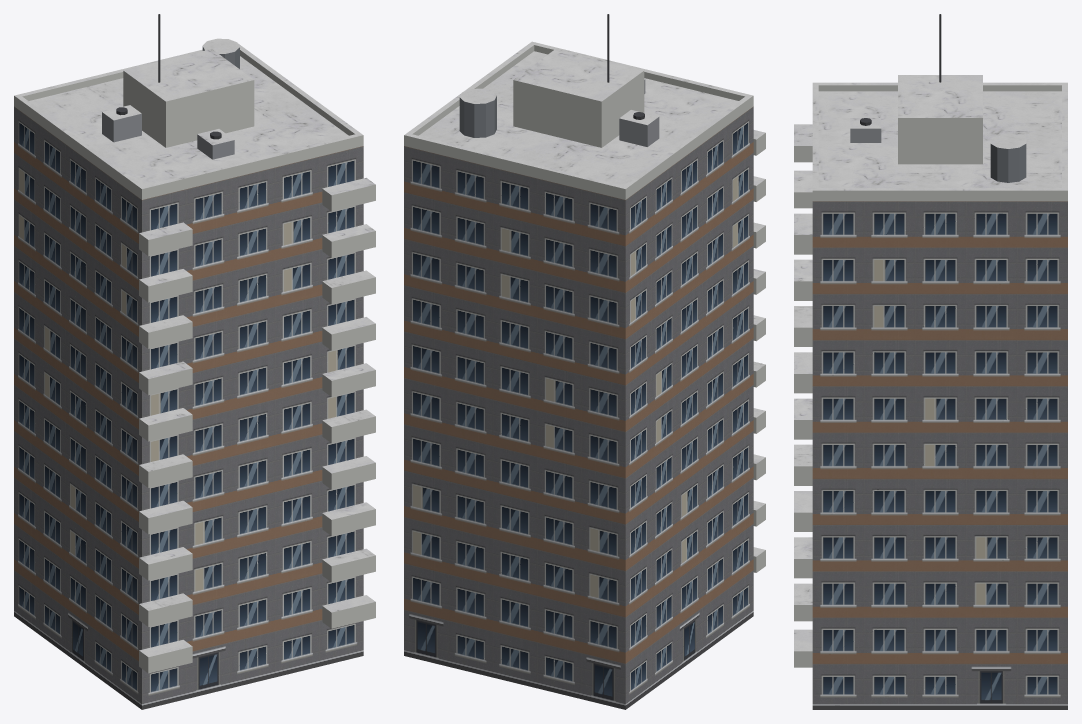
File: c_tower_res.glb
3 views of the same model, side by side, from view 1: azimuth 30°, elevation 25°; view 2: azimuth 150°, elevation 25°; view 3: azimuth 270°, elevation 25° (orthographic).
Visible parts, largest first — view 1: House; view 2: House; view 3: House.
Boxes of the visible parts, box(x1,y1,x2,y2) form: House: box(14, 14, 375, 709); House: box(404, 14, 765, 709); House: box(794, 14, 1067, 709).
Size of the model in its own units: 15.4 by 40.7 by 16.1.
Materials: 3 (3 with a texture image).
